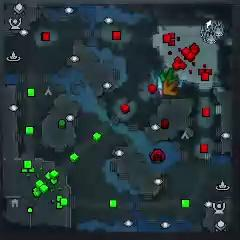x1: (158, 89, 163, 97)
x3: (157, 76, 163, 90)
x4: (159, 68, 177, 84)
x5: (162, 80, 178, 95)
